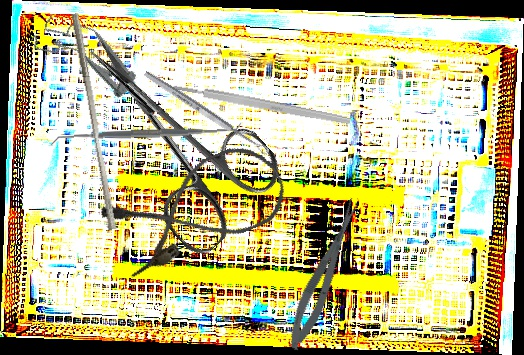Cannula: (96, 133, 297, 282)
Iris Scissors: (46, 6, 294, 262)
Micro Scissor: (279, 195, 371, 354)
Pusher: (62, 12, 125, 231)
Scalpel Handle: (172, 81, 352, 127)
Spatula Surgical: (48, 120, 243, 148)
Speculum: (28, 3, 169, 123)
Surgical Spoon: (142, 69, 271, 157)
